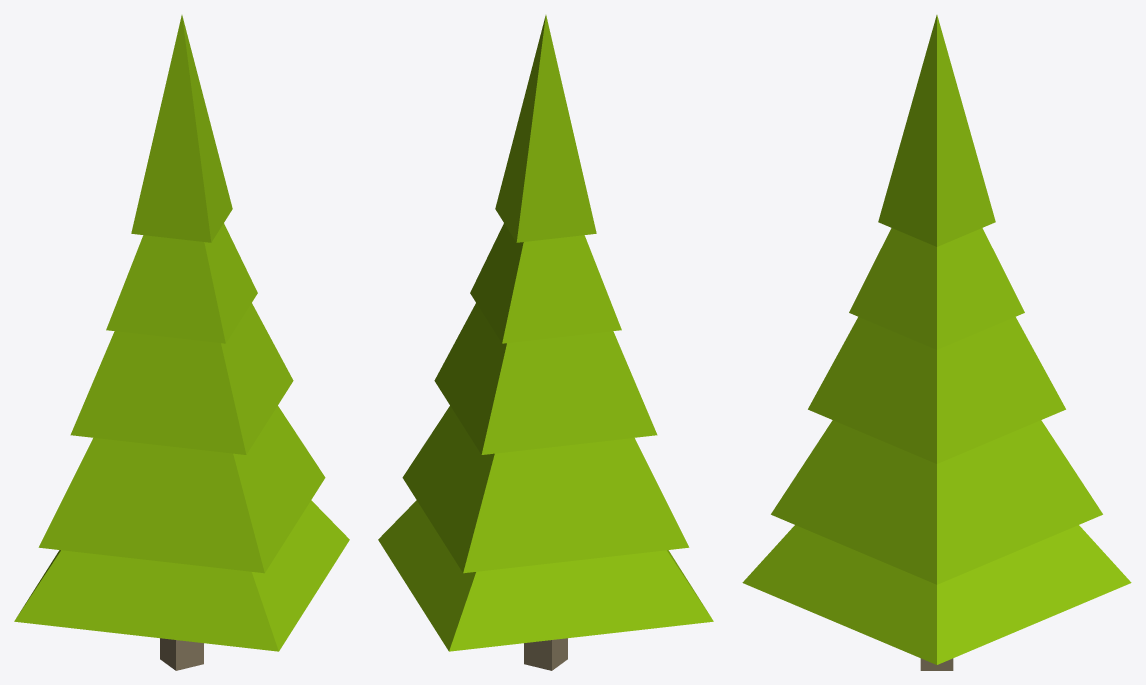
File: pine_10.fbx
The picture shows the model from 3 angles, left to right: view 1: azimuth 30°, elevation 25°; view 2: azimuth 150°, elevation 25°; view 3: azimuth 270°, elevation 25°; orthographic projection.
Visible parts, largest first — view 1: pine_10; view 2: pine_10; view 3: pine_10.
Part boxes in pixels (x1,y1,x2,y2): pine_10: [14, 15, 349, 670]; pine_10: [378, 15, 713, 670]; pine_10: [742, 15, 1131, 670].
Bounding box in the file's own units: 145 × 266 × 145.
